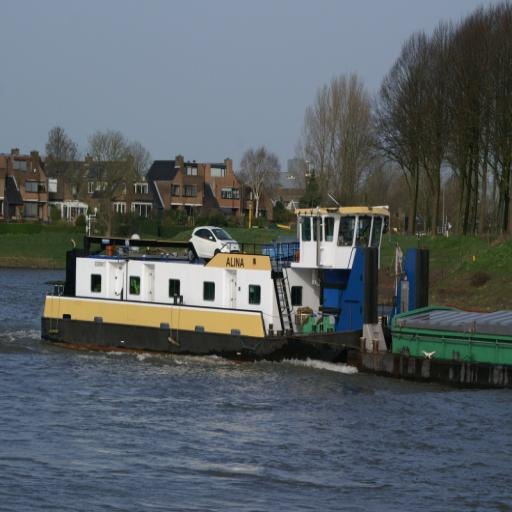tugboat: (38, 193, 435, 381)
